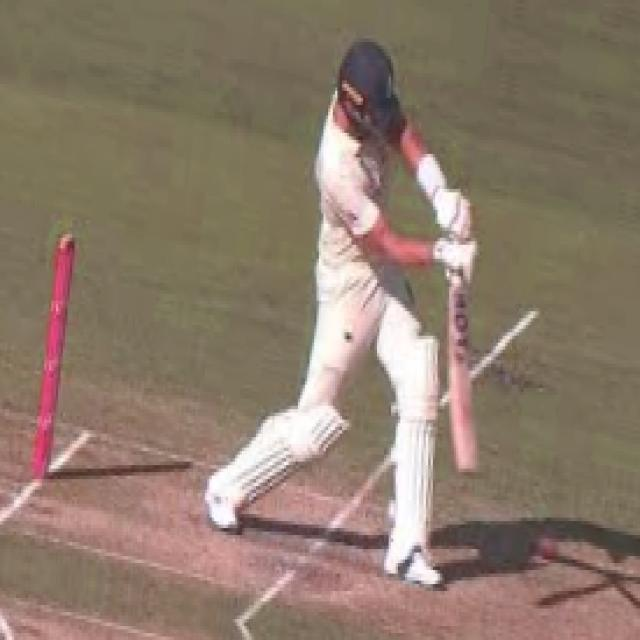bat: (448, 286, 490, 476)
toe: (457, 464, 483, 474)
